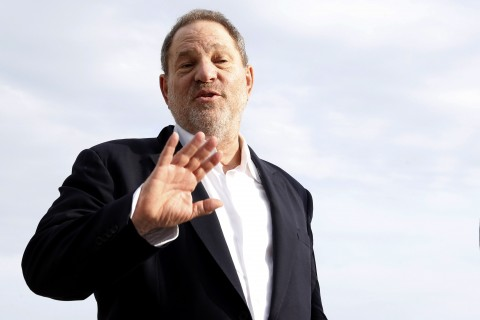confused: (158, 28, 250, 140)
